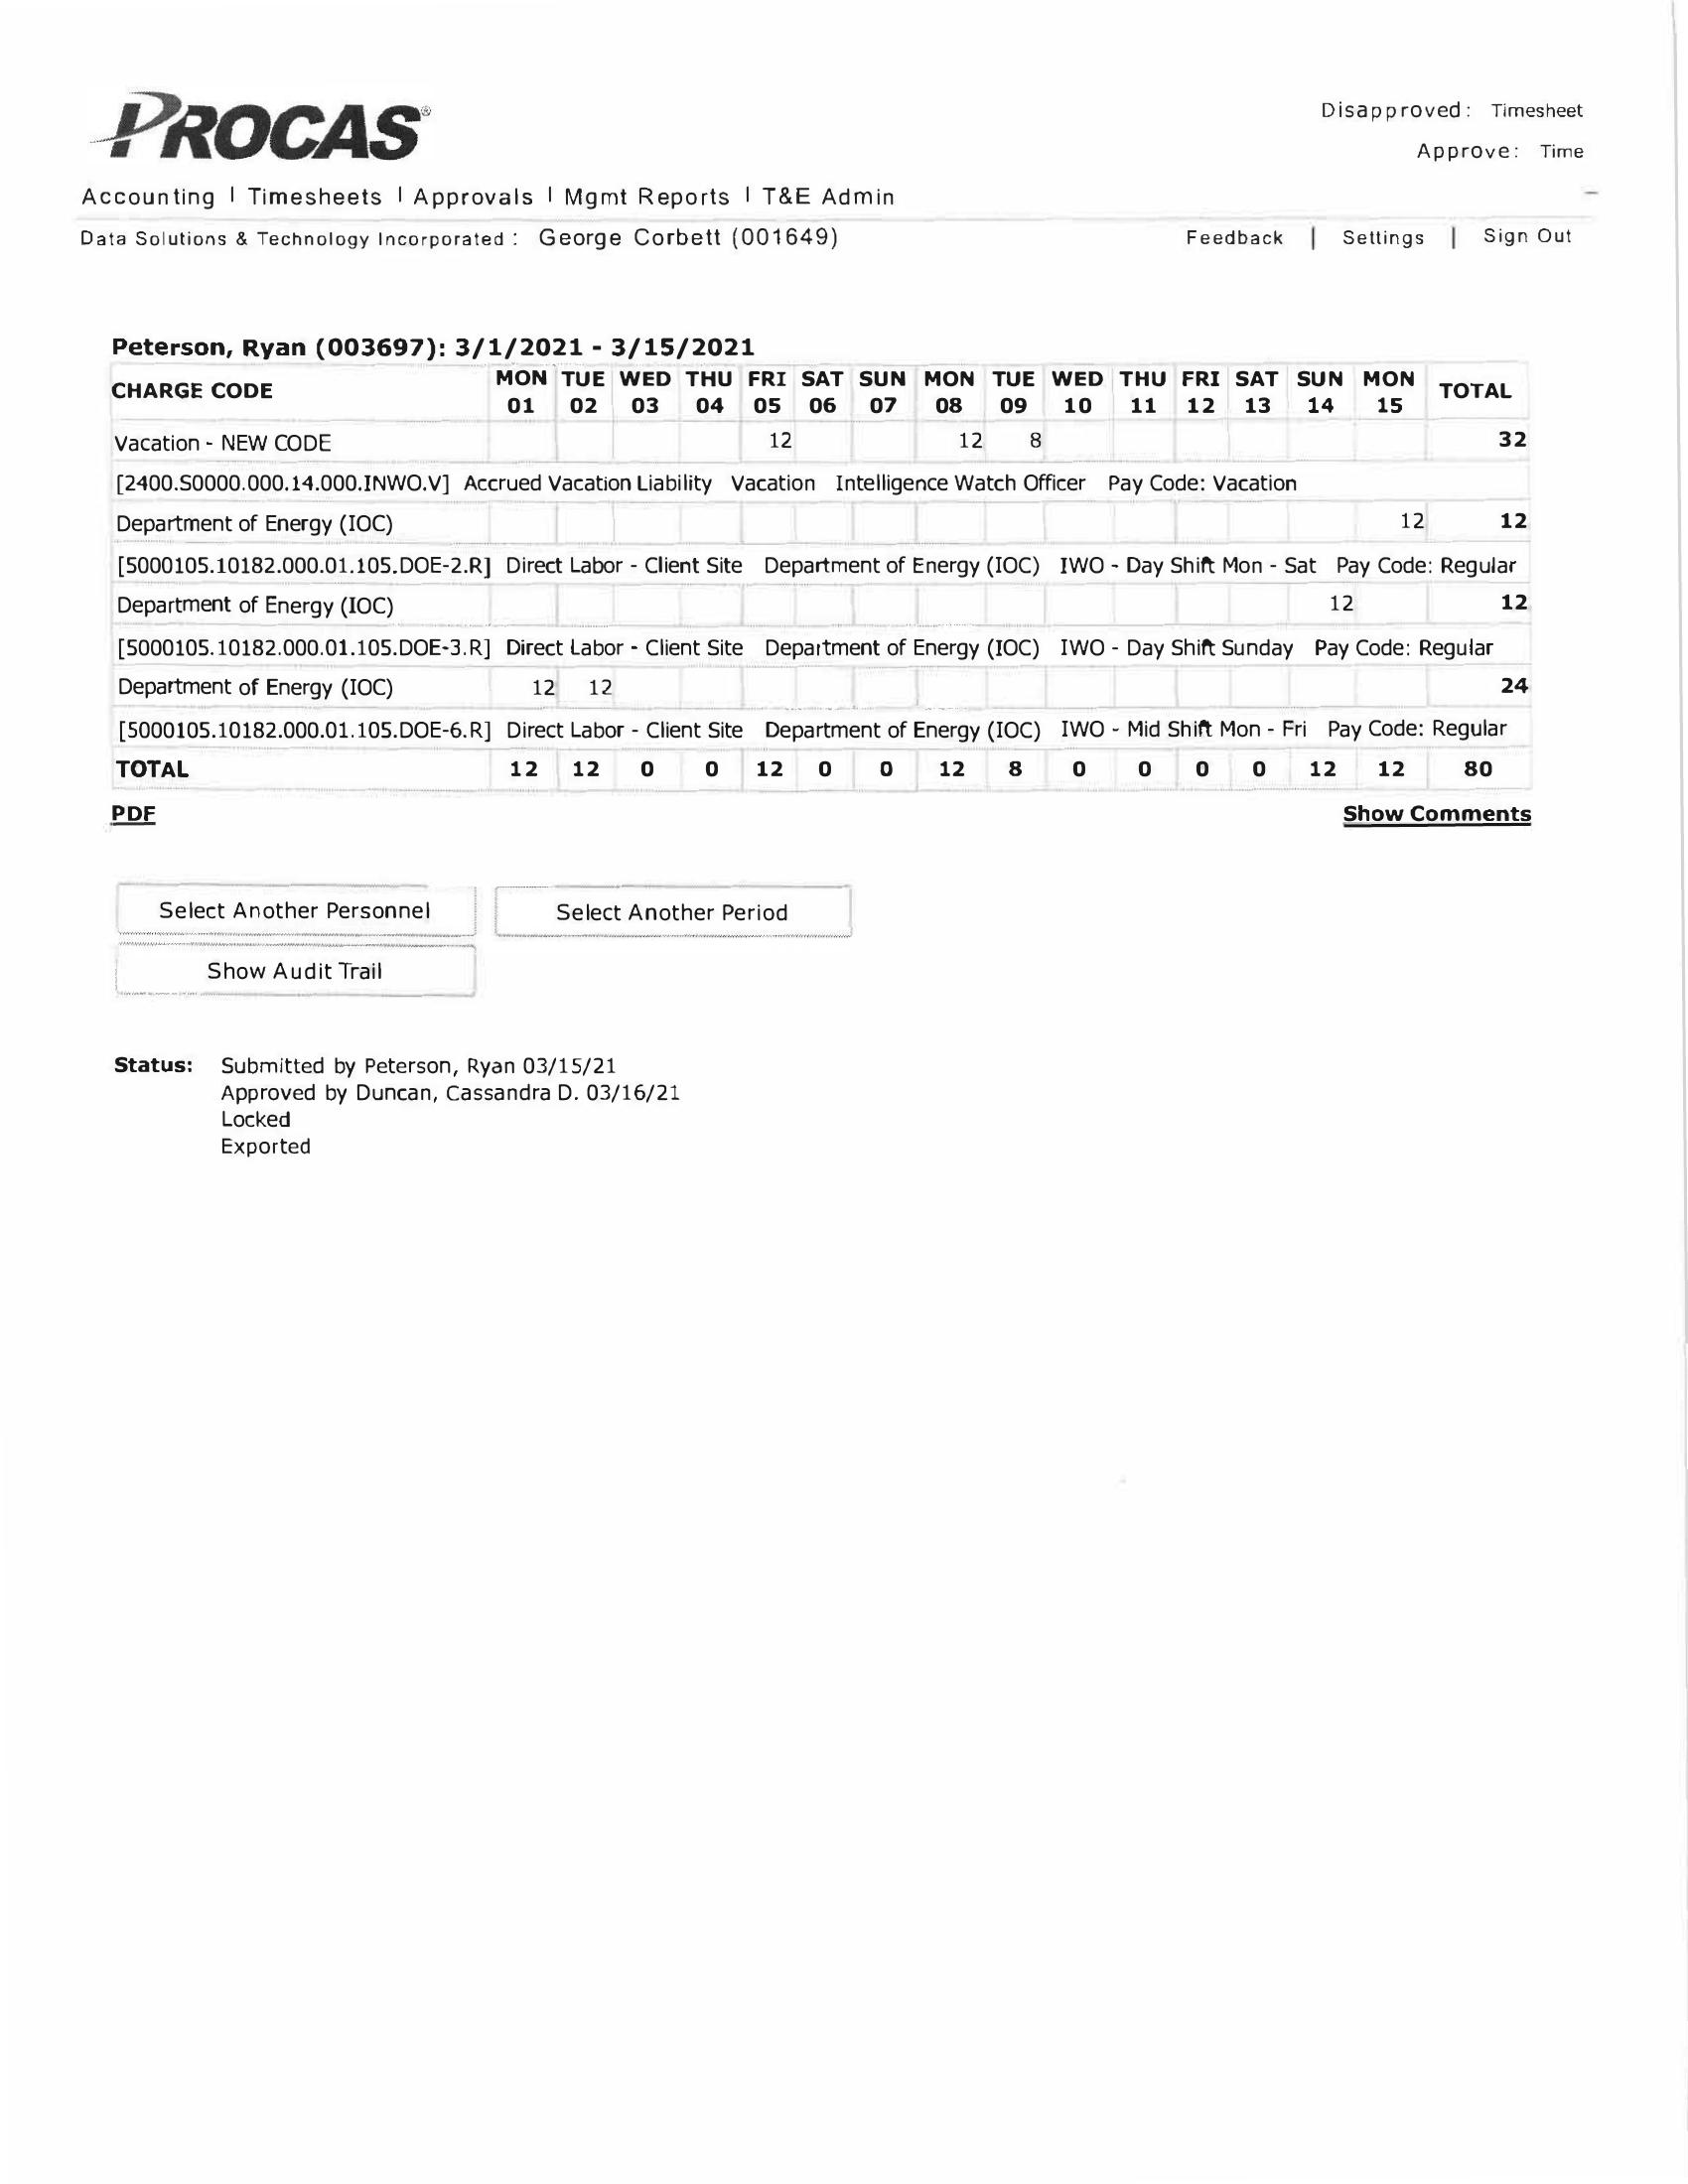table: (106, 358, 1557, 784)
